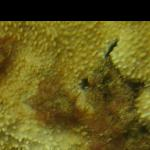dead: (15, 46, 120, 134)
